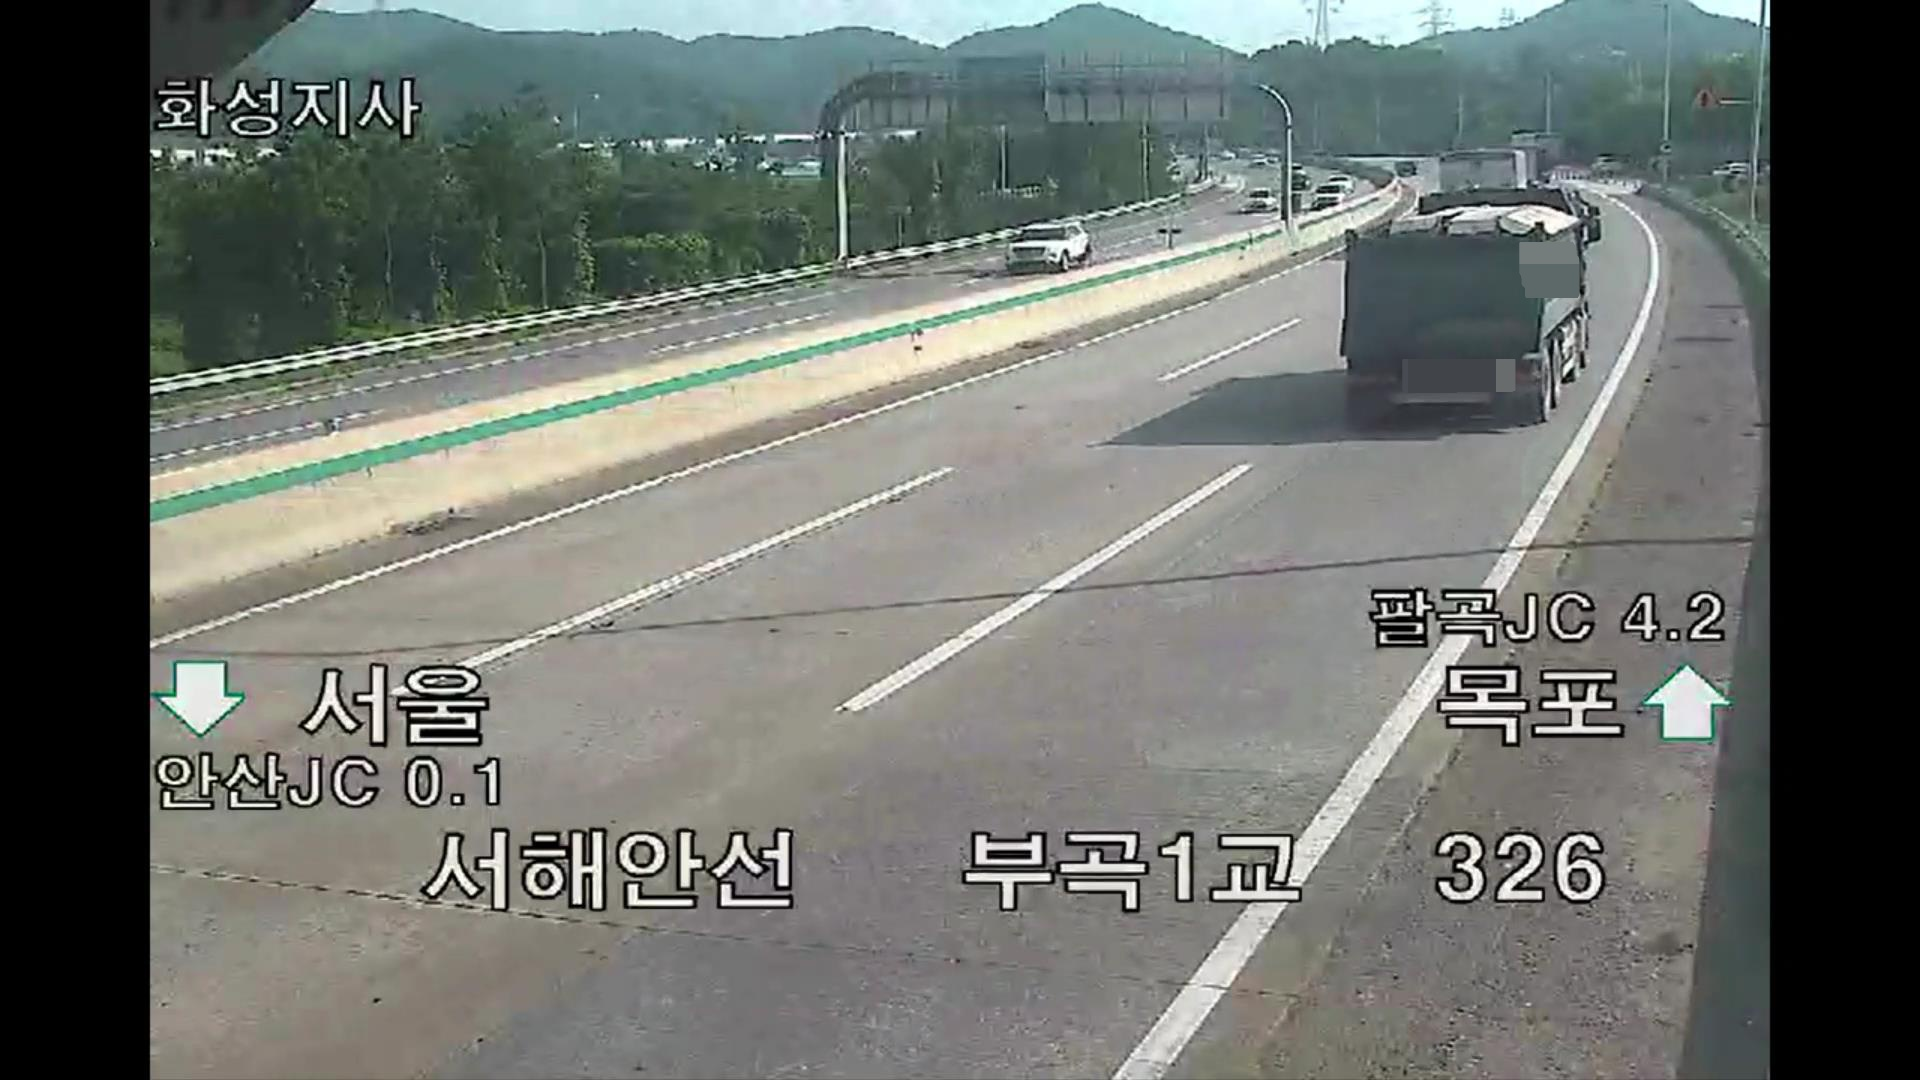정상차량: (1340, 179, 1601, 426)
